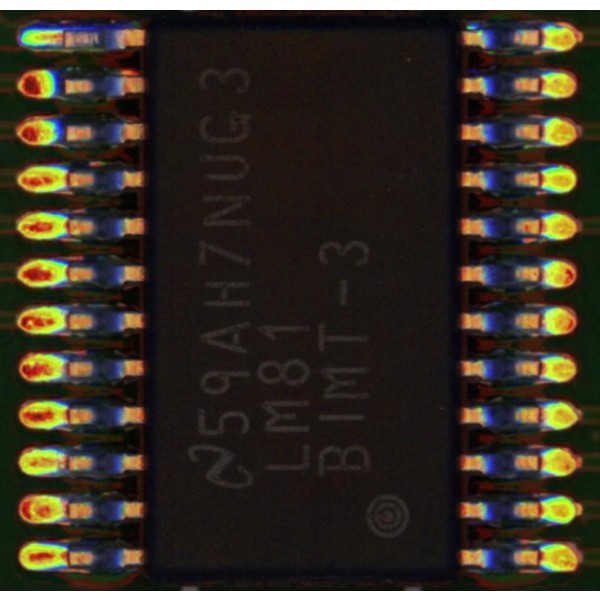Bad_podu: (50, 551, 82, 565), (529, 551, 557, 565), (44, 32, 73, 45), (528, 79, 557, 91), (527, 31, 553, 44), (530, 221, 555, 233), (529, 362, 552, 375), (529, 173, 553, 184)
